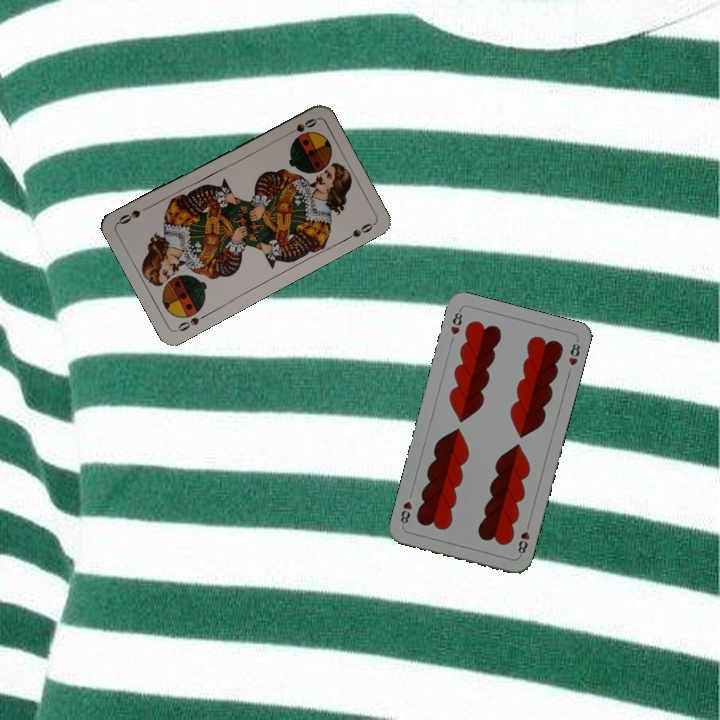H8: (514, 519, 532, 559), (446, 306, 465, 337)
SO: (281, 114, 320, 139), (173, 310, 210, 334)
